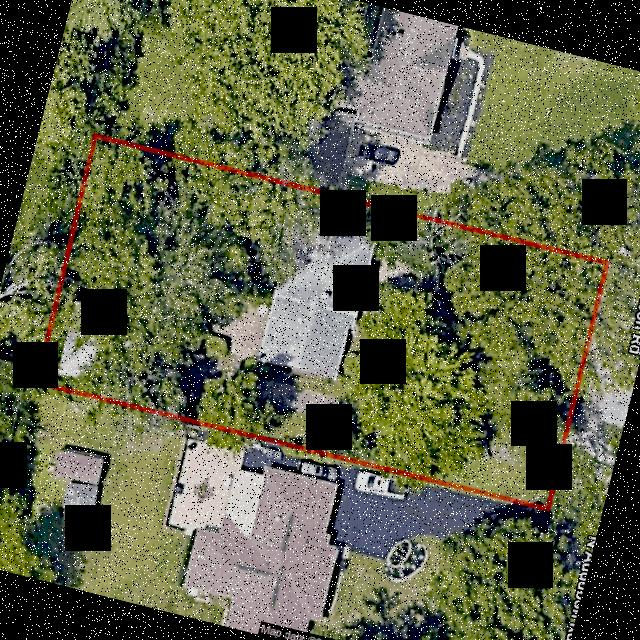Driveway: (39, 322, 559, 477), (294, 388, 335, 413)
House: (258, 218, 372, 378)
Other: (211, 292, 270, 370)
Sidewalk: (363, 256, 424, 414)
